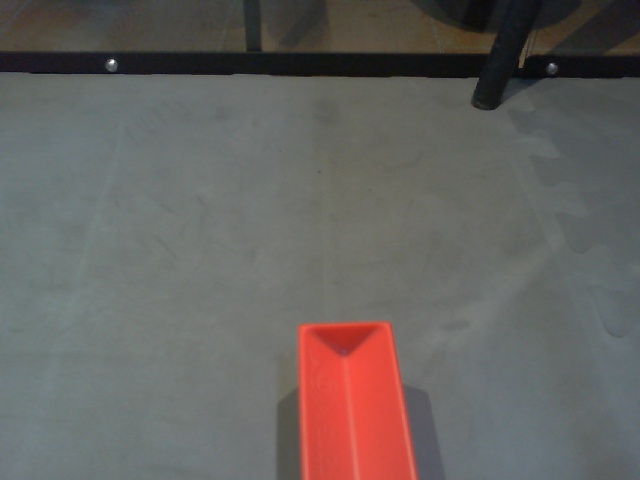RedSample: (295, 318, 417, 480)
